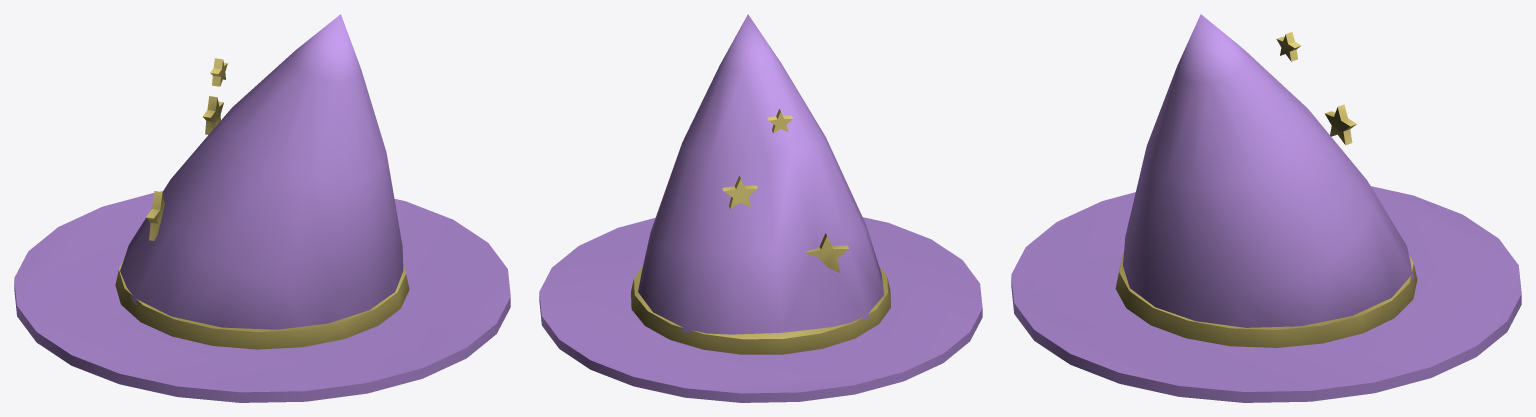
Rendered from wizard_head.fbx.
The picture shows the model from 3 angles, left to right: view 1: azimuth 30°, elevation 25°; view 2: azimuth 150°, elevation 25°; view 3: azimuth 270°, elevation 25°; orthographic projection. The views are drawn at different scales.
Parts seen in each view (by area): view 1: wizard_head; view 2: wizard_head; view 3: wizard_head.
Boxes of the visible parts, box(x1,y1,x2,y2) form: wizard_head: box(14, 14, 510, 402); wizard_head: box(539, 14, 982, 402); wizard_head: box(1011, 14, 1521, 402).
Bounding box in the file's own units: 1.69 × 1.24 × 1.69.
